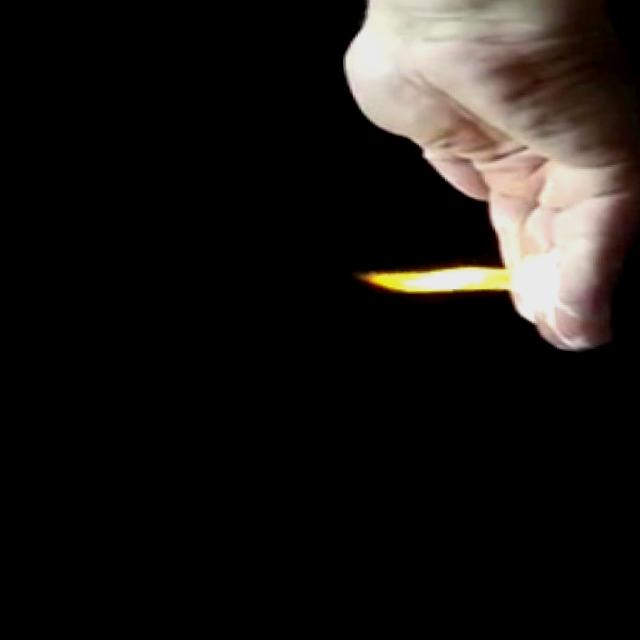Fire: (354, 251, 561, 302)
